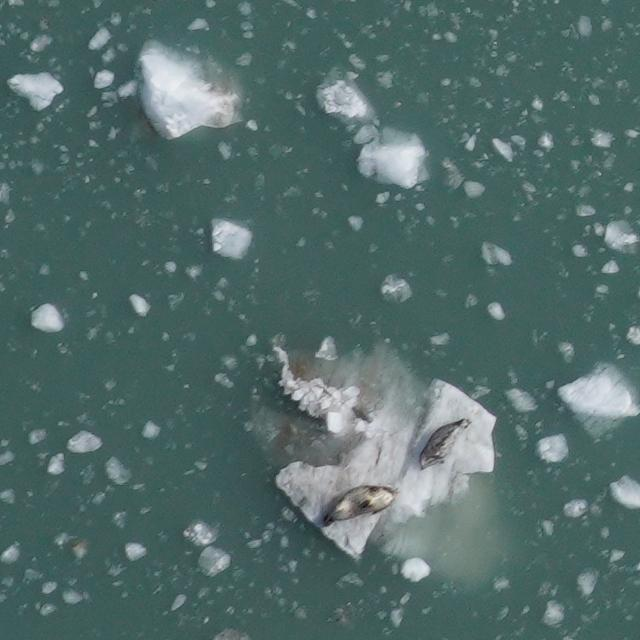seal: (317, 481, 403, 528), (415, 414, 477, 473)
